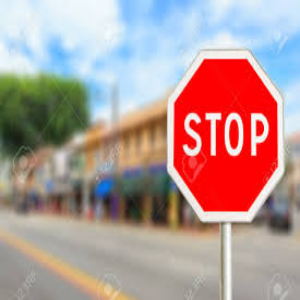STOP_SIGN: (166, 48, 286, 223)
